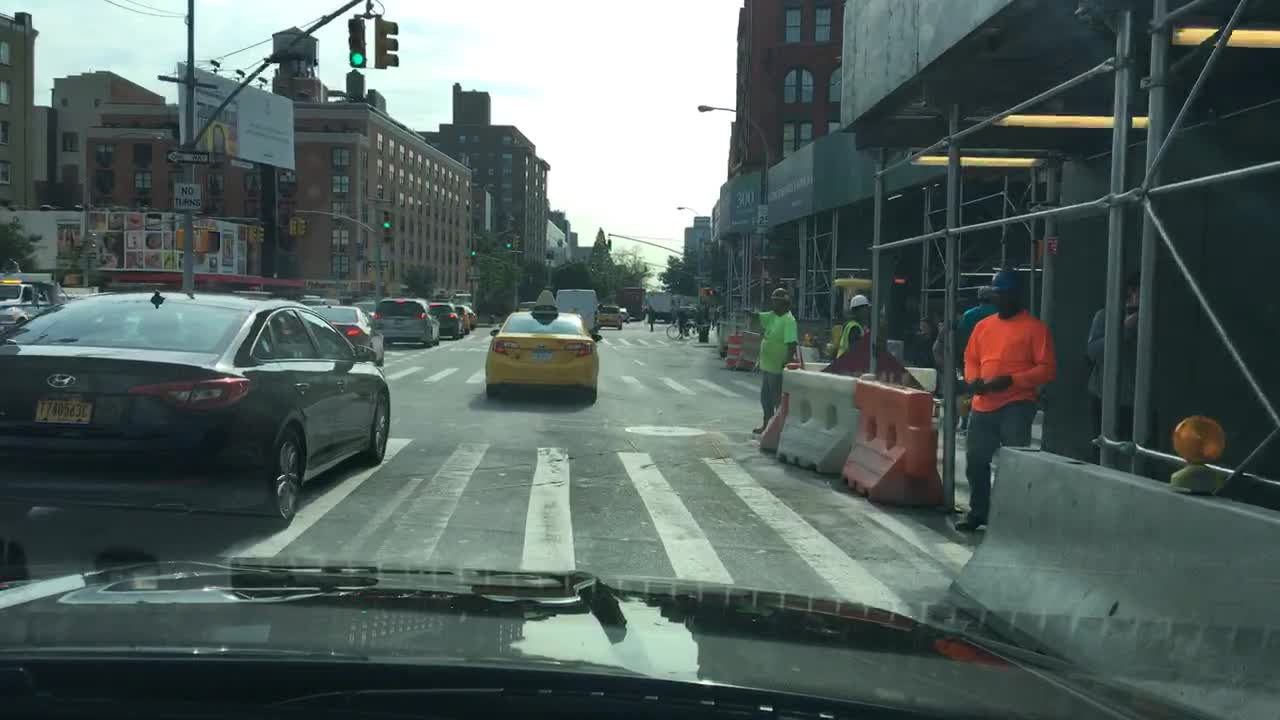bike: (667, 321, 701, 340)
car: (0, 291, 391, 521), (484, 289, 598, 404), (305, 303, 385, 368), (371, 296, 439, 348), (555, 288, 601, 340), (427, 301, 461, 341), (270, 291, 336, 306), (455, 304, 479, 331), (597, 305, 622, 329), (484, 306, 511, 325), (678, 306, 699, 319), (615, 306, 631, 323), (516, 299, 535, 313), (630, 308, 641, 321)
person: (955, 267, 1056, 534), (1088, 268, 1142, 472), (743, 286, 800, 435), (959, 281, 999, 426), (934, 304, 965, 427), (836, 294, 871, 368), (931, 318, 947, 395), (915, 320, 931, 366), (831, 319, 841, 360), (646, 305, 655, 331), (707, 304, 716, 328), (714, 304, 721, 328)
rider: (677, 310, 687, 340)
traffic light: (373, 17, 396, 69), (348, 19, 365, 68), (198, 232, 222, 253), (172, 227, 185, 255), (381, 208, 393, 232), (248, 227, 262, 245), (286, 215, 296, 237), (702, 284, 716, 298), (296, 217, 308, 233), (257, 227, 269, 243), (465, 272, 481, 280), (504, 237, 515, 248), (606, 238, 613, 253), (514, 237, 521, 252), (470, 242, 476, 258), (588, 259, 594, 275), (642, 262, 650, 274)
traffic sign: (171, 184, 200, 209), (165, 149, 211, 164), (756, 204, 773, 234), (1046, 235, 1061, 253), (592, 259, 601, 277)
truck: (1, 272, 98, 341), (649, 291, 672, 323), (622, 288, 644, 318)
